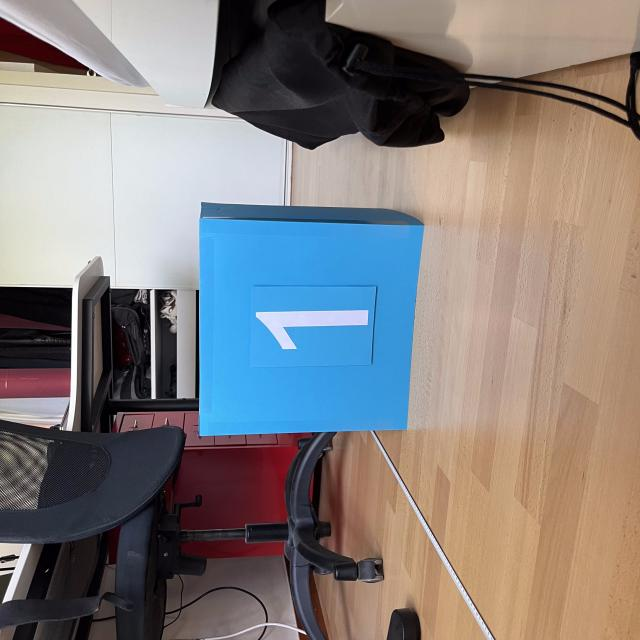box: (193, 198, 427, 438)
